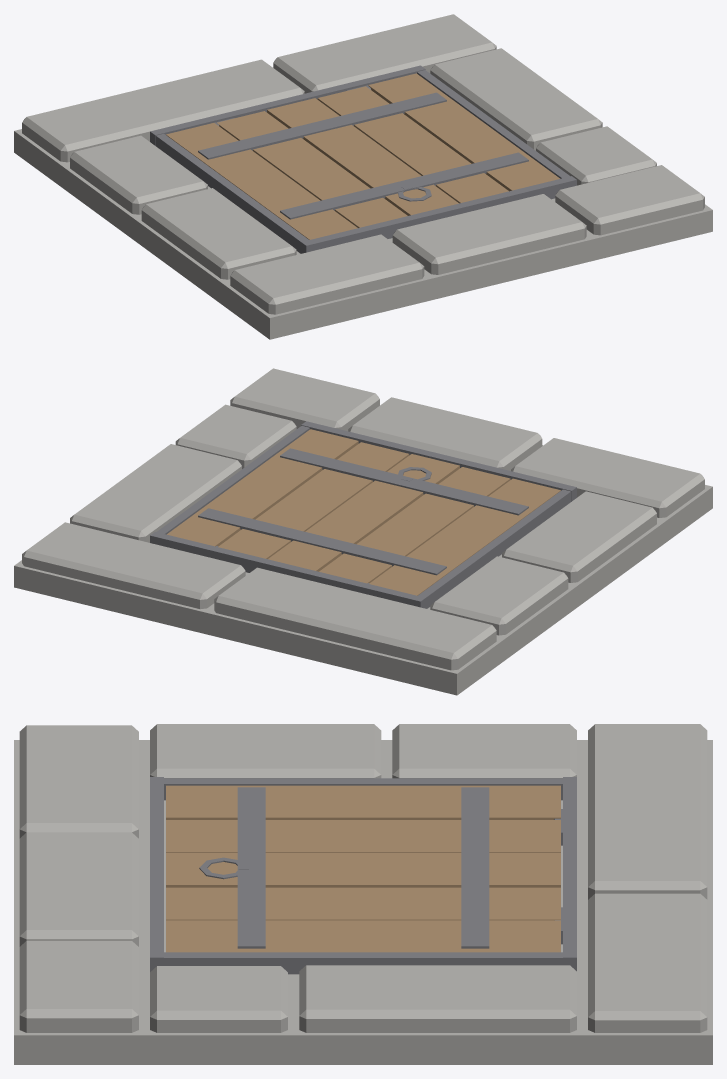
The model's file is tile-dungeon-floor-trapdoor.glb.
3 views of the same model, one above another, from view 1: azimuth 30°, elevation 25°; view 2: azimuth 150°, elevation 25°; view 3: azimuth 270°, elevation 25° (orthographic). The views are drawn at different scales.
Visible parts, largest first — view 1: tile-dungeon-floor-trapdoor; view 2: tile-dungeon-floor-trapdoor; view 3: tile-dungeon-floor-trapdoor.
Boxes of the visible parts, left/top/right/bottom form: tile-dungeon-floor-trapdoor: left=14, top=14, right=712, bottom=339; tile-dungeon-floor-trapdoor: left=14, top=368, right=712, bottom=695; tile-dungeon-floor-trapdoor: left=14, top=724, right=712, bottom=1064.
Size of the model in its own units: 1.5 by 0.12 by 1.5.
